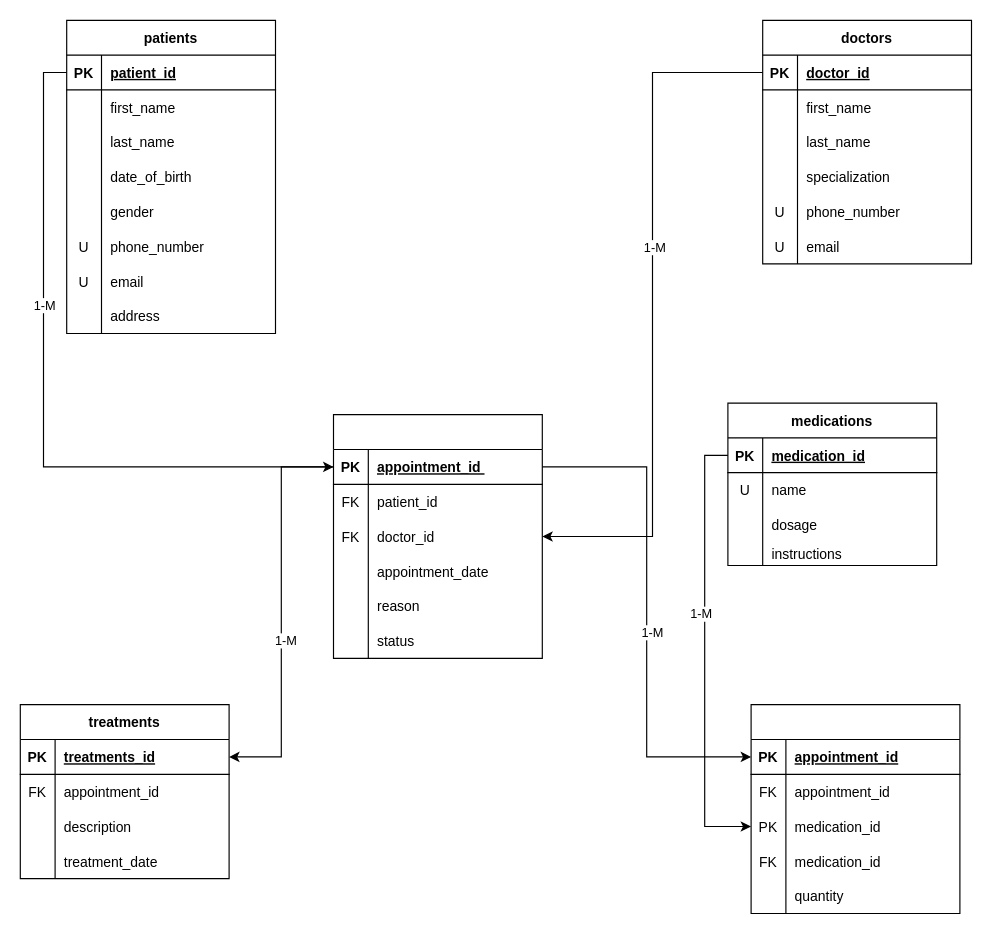
The diagram is 992 pixels wide and 934 high, and some of its shapes have lost their labels. Each missing label, with the box of its shape:
appointment_medications: (750, 704, 960, 913)
appointments: (332, 414, 542, 658)
